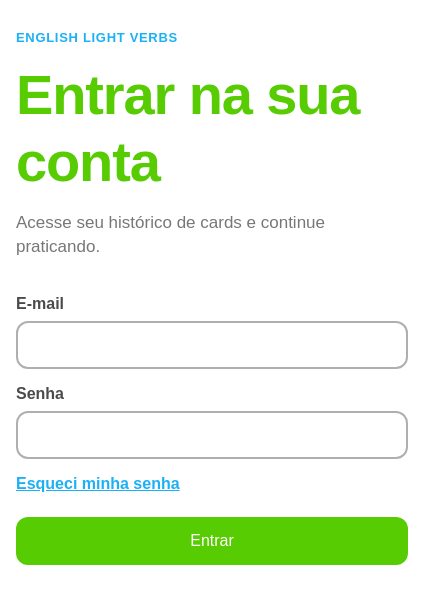
Test: login page › exibe o erro determinístico do backend quando as credenciais são recusadas (401), sem inventar mensagem local
Type "aluno@example.com" into the field labelled "E-mail".
click(212, 345); type("aluno@example.com")  # box [16,321,408,369]
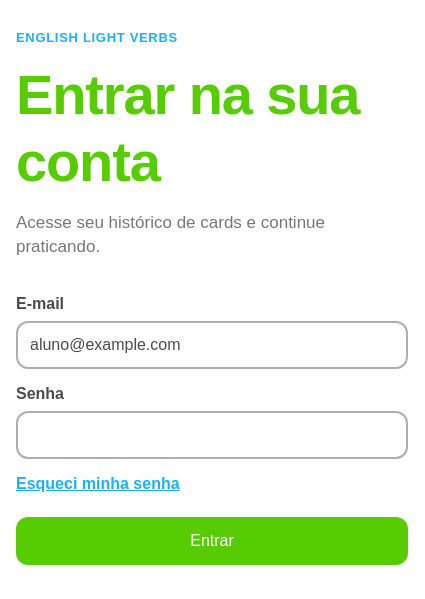
Type "senha-errada" into the password field labelled "Senha".
click(212, 435); type("senha-errada")  # box [16,411,408,459]
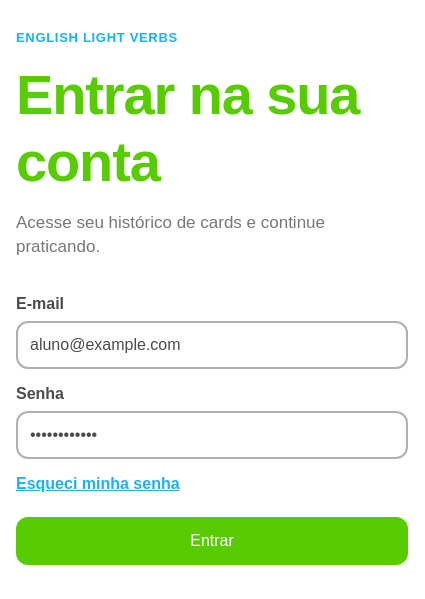
Click the button "Entrar".
click(212, 541)  # box [16,517,408,565]
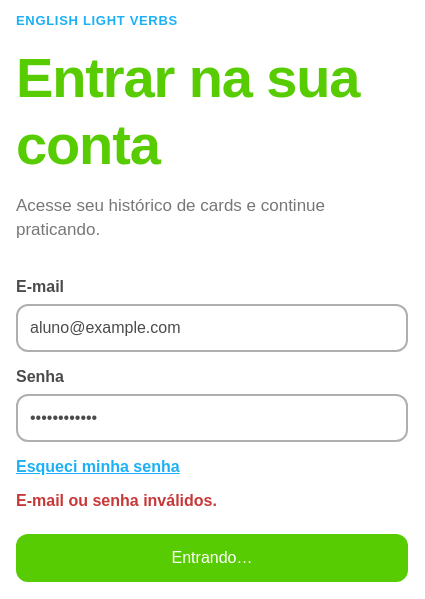
Expected: the heading "Entrar na sua conta" is shown, [16,44,408,178]
Expected: the message shows "E-mail ou senha inválidos", [16,492,217,509]
